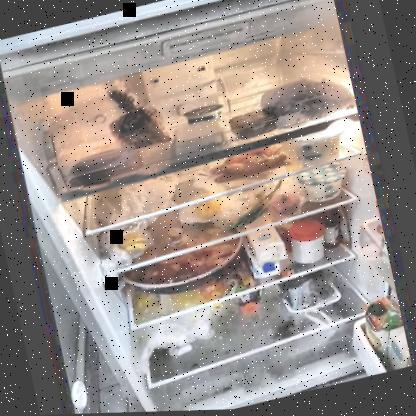broccoli: (278, 271, 344, 319)
butter: (230, 107, 280, 143)
carrot: (206, 143, 291, 186)
cheese: (169, 119, 228, 160)
green_chillies: (226, 196, 276, 233)
lemon: (114, 225, 155, 260), (189, 196, 231, 224)
milk: (241, 227, 291, 281), (381, 328, 415, 373)
salami: (64, 144, 147, 190)
yoghurt: (294, 163, 353, 209), (290, 126, 350, 170), (182, 102, 225, 127)
